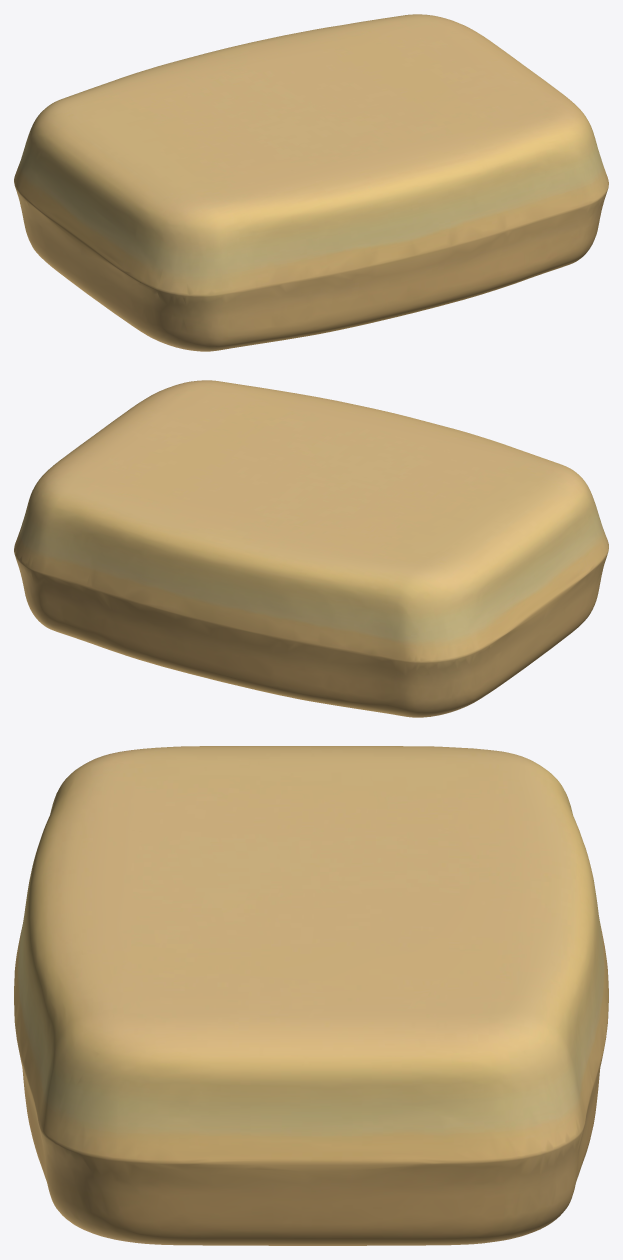
The model's file is soap_004.glb.
The picture shows the model from 3 angles, top to bottom: view 1: azimuth 30°, elevation 25°; view 2: azimuth 150°, elevation 25°; view 3: azimuth 270°, elevation 25°; orthographic projection. The views are drawn at different scales.
Parts seen in each view (by area): view 1: 627eb1cd-9a39-4542-979d-3552083c496b_texturing.obj; view 2: 627eb1cd-9a39-4542-979d-3552083c496b_texturing.obj; view 3: 627eb1cd-9a39-4542-979d-3552083c496b_texturing.obj.
Boxes of the visible parts, x1,y1,x2,y2 form: 627eb1cd-9a39-4542-979d-3552083c496b_texturing.obj: (14, 14, 608, 351); 627eb1cd-9a39-4542-979d-3552083c496b_texturing.obj: (14, 380, 608, 717); 627eb1cd-9a39-4542-979d-3552083c496b_texturing.obj: (14, 746, 608, 1245).
Size of the model in its own units: 0.3343 by 0.1 by 0.2499.
1 material, 1 textured.
